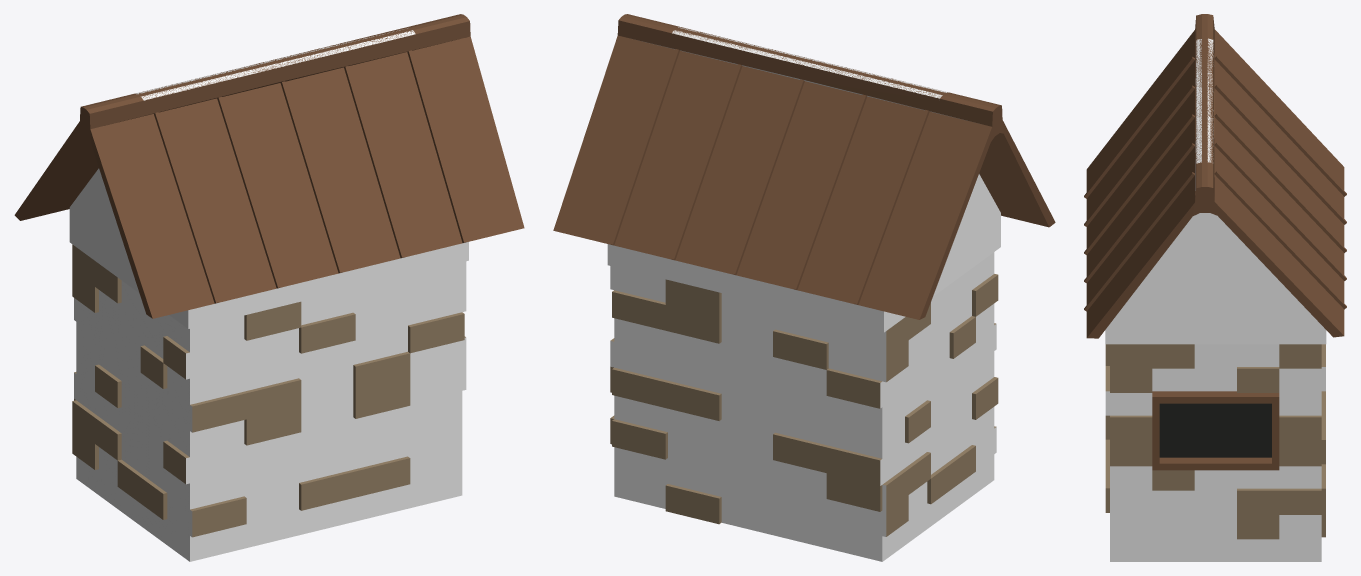
The model's file is medieval6.fbx.
3 views of the same model, side by side, from view 1: azimuth 30°, elevation 25°; view 2: azimuth 150°, elevation 25°; view 3: azimuth 270°, elevation 25° (orthographic). The views are drawn at different scales.
Parts seen in each view (by area): view 1: Cube; view 2: Cube; view 3: Cube.
Boxes of the visible parts, left/top/right/bottom form: Cube: left=14, top=14, right=524, bottom=561; Cube: left=553, top=14, right=1055, bottom=561; Cube: left=1084, top=14, right=1346, bottom=561.
Bounding box in the file's own units: 1357 × 1463 × 872.
